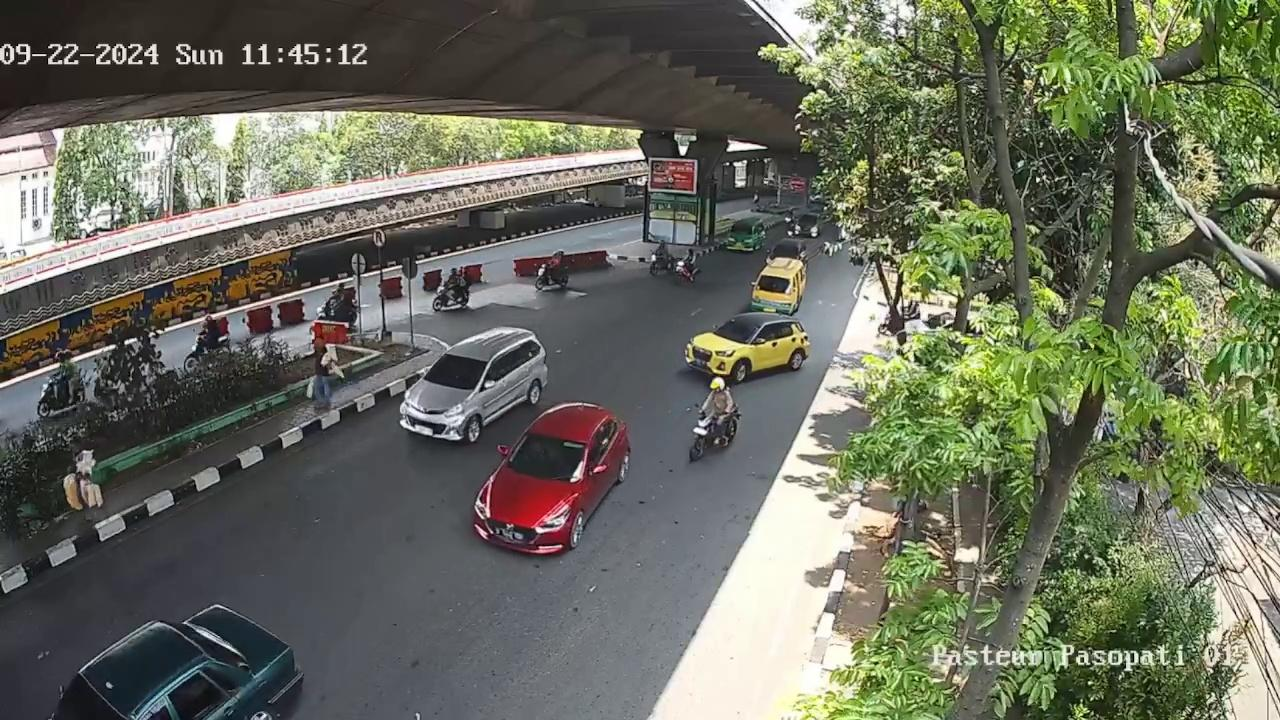pakai: (529, 438, 565, 470)
windshield: (507, 431, 589, 488), (423, 352, 490, 390), (712, 318, 759, 343), (756, 274, 793, 294)
